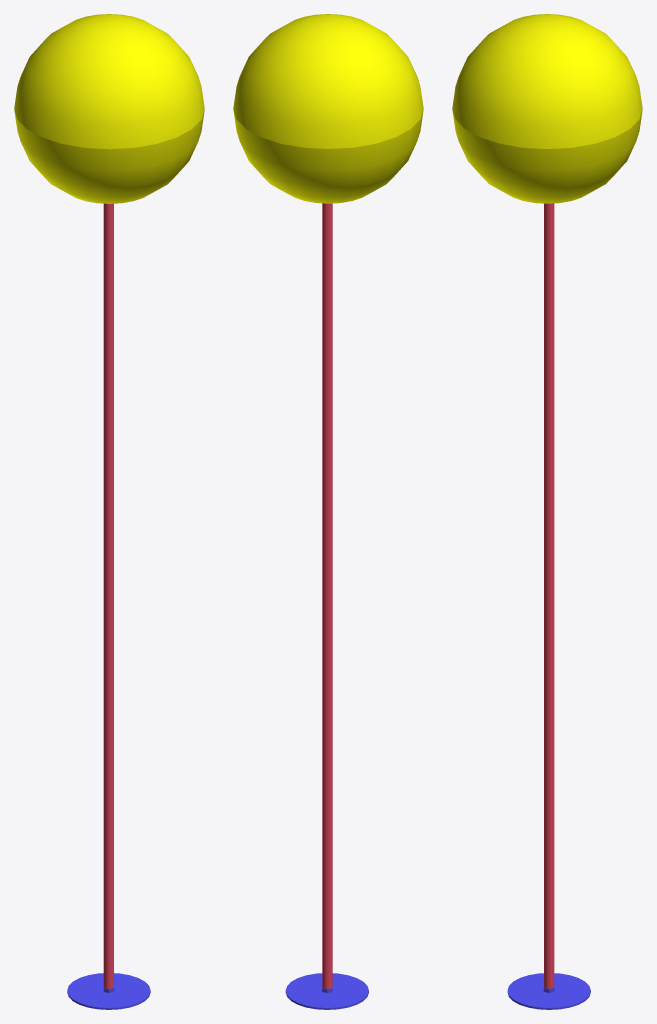
Rendered from buoy_yellow.dae.
The picture shows the model from 3 angles, left to right: view 1: azimuth 30°, elevation 25°; view 2: azimuth 150°, elevation 25°; view 3: azimuth 270°, elevation 25°; orthographic projection.
Visible parts, largest first — view 1: SketchUp_001, instance_3, instance_2_001; view 2: SketchUp_001, instance_3, instance_2_001; view 3: SketchUp_001, instance_3, instance_2_001.
Part boxes in pixels (x1,y1,x2,y2): SketchUp_001: [14, 14, 204, 203]; instance_3: [103, 203, 113, 988]; instance_2_001: [67, 973, 150, 1009]; SketchUp_001: [233, 14, 423, 203]; instance_3: [322, 203, 332, 988]; instance_2_001: [285, 973, 368, 1009]; SketchUp_001: [452, 14, 642, 203]; instance_3: [544, 203, 554, 988]; instance_2_001: [507, 973, 590, 1009].
Size of the model in its own units: 0.4572 by 0.4572 by 2.57.
